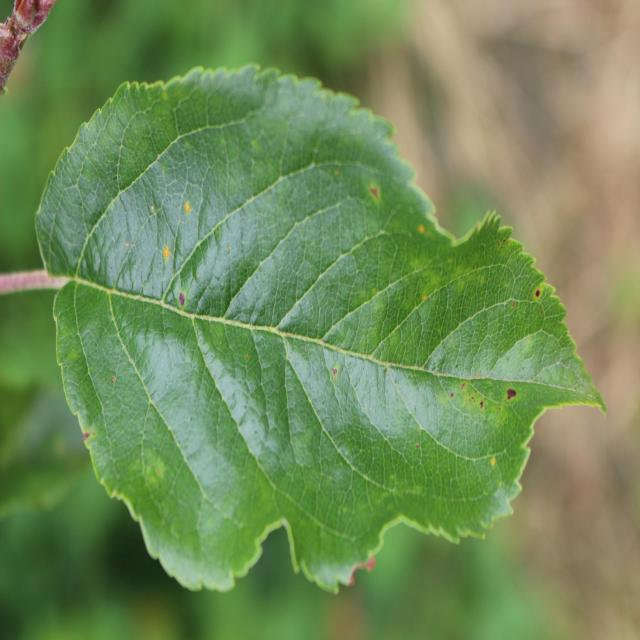rust: (35, 63, 608, 595)
